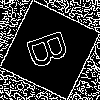B: (25, 25, 79, 71)
